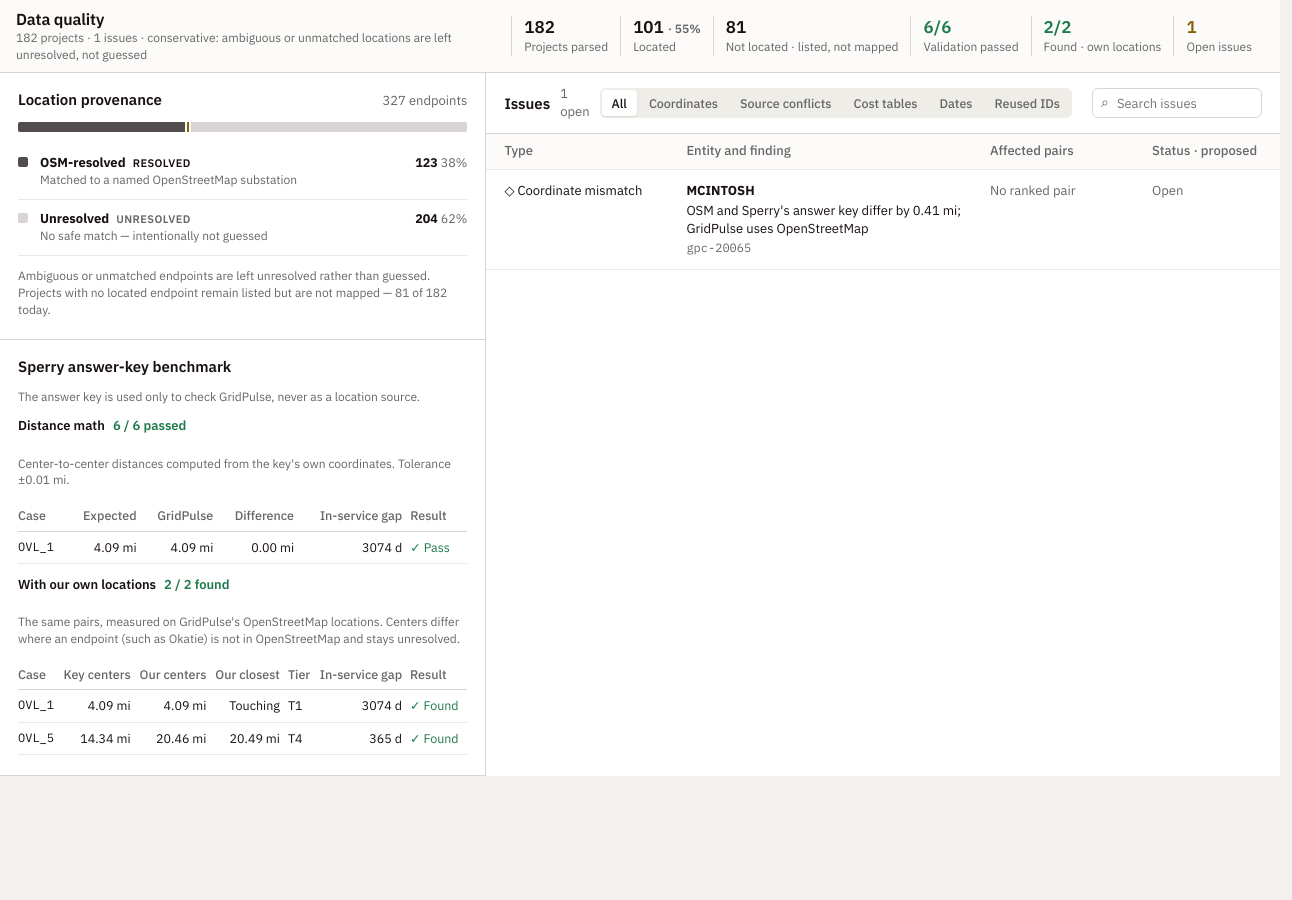
Scenario: a coordinate conflict says GridPulse uses OpenStreetMap
Click the button "MCINTOSH" at (883, 220), box [486,170,1280,270]
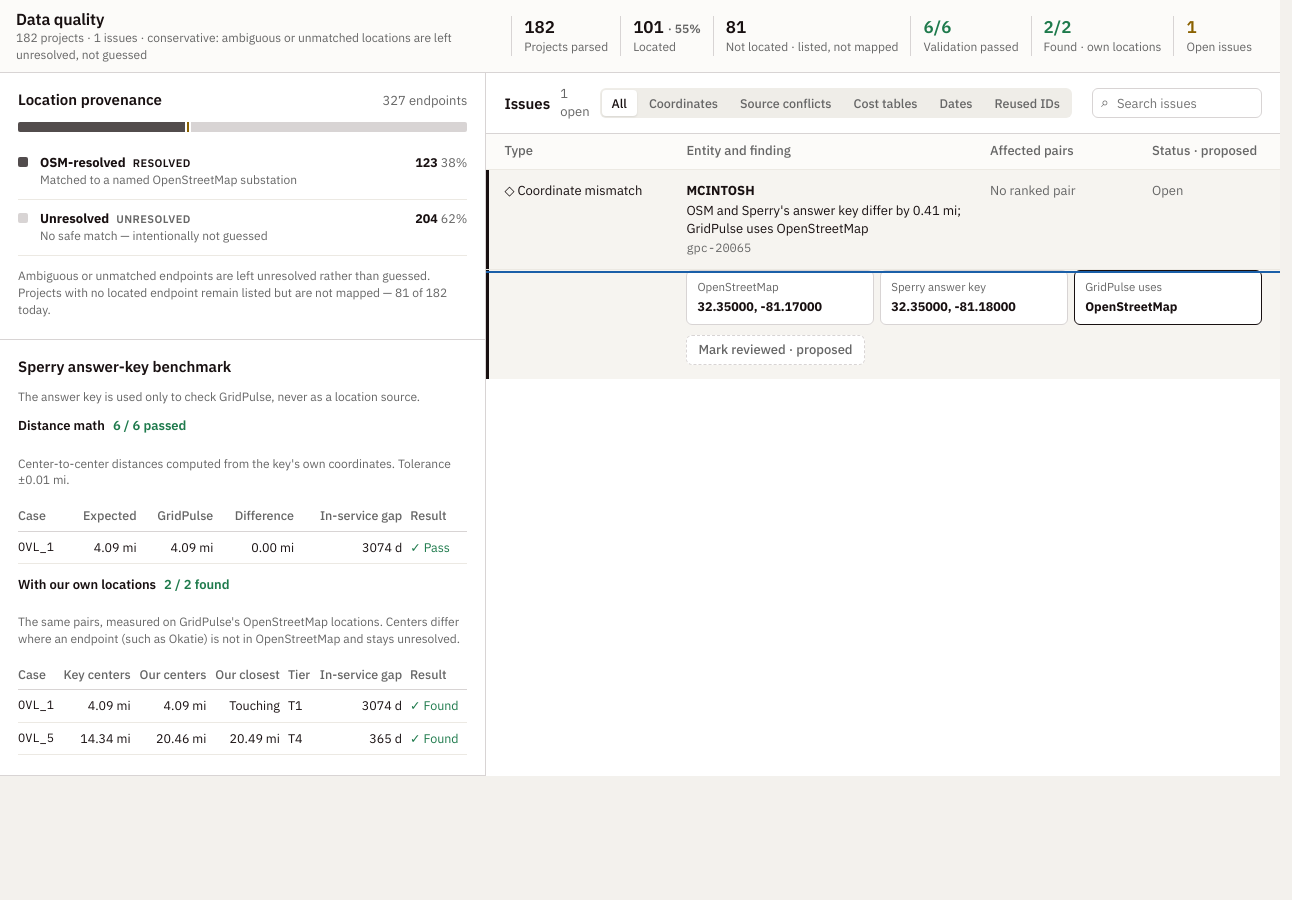
Now the text "GridPulse uses" shows "OpenStreetMap", box [1085,298,1177,314]
